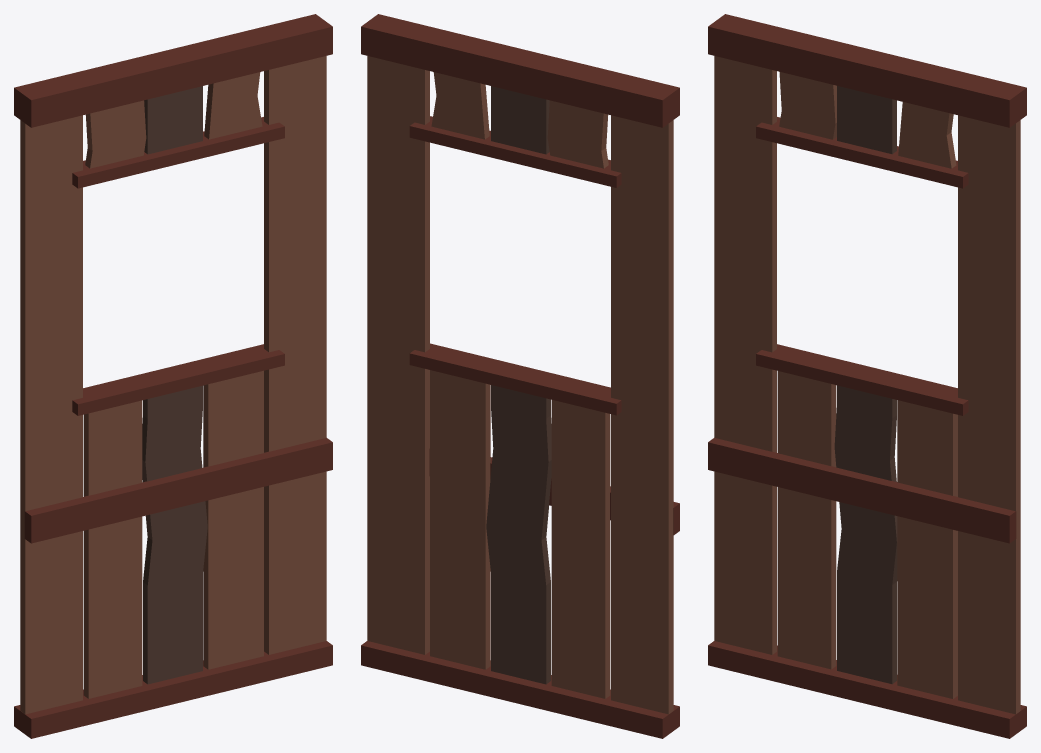
Rendered from ScrapWindow3.fbx.
3 views of the same model, side by side, from view 1: azimuth 30°, elevation 25°; view 2: azimuth 150°, elevation 25°; view 3: azimuth 330°, elevation 25° (orthographic).
Visible parts, largest first — view 1: Cube; view 2: Cube; view 3: Cube.
Boxes of the visible parts, box(x1,y1,x2,y2) form: Cube: box(14, 14, 332, 738); Cube: box(361, 14, 679, 738); Cube: box(708, 14, 1026, 738).
Bounding box in the file's own units: 200 × 405 × 19.8.
